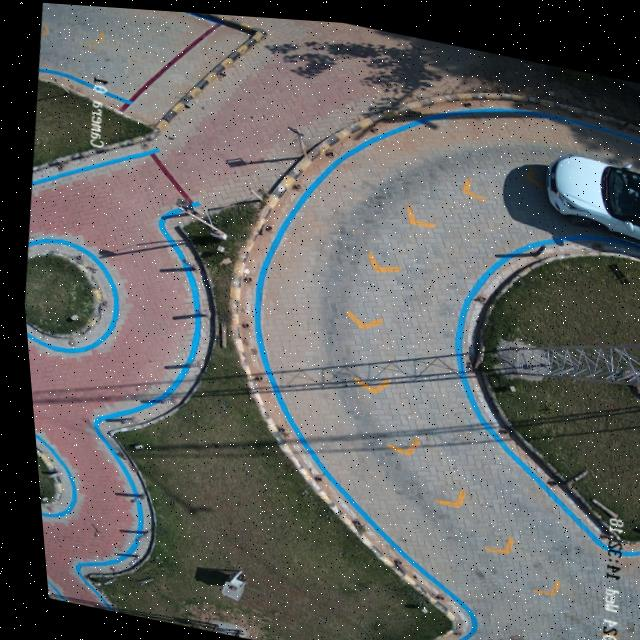car: (542, 146, 640, 232)
